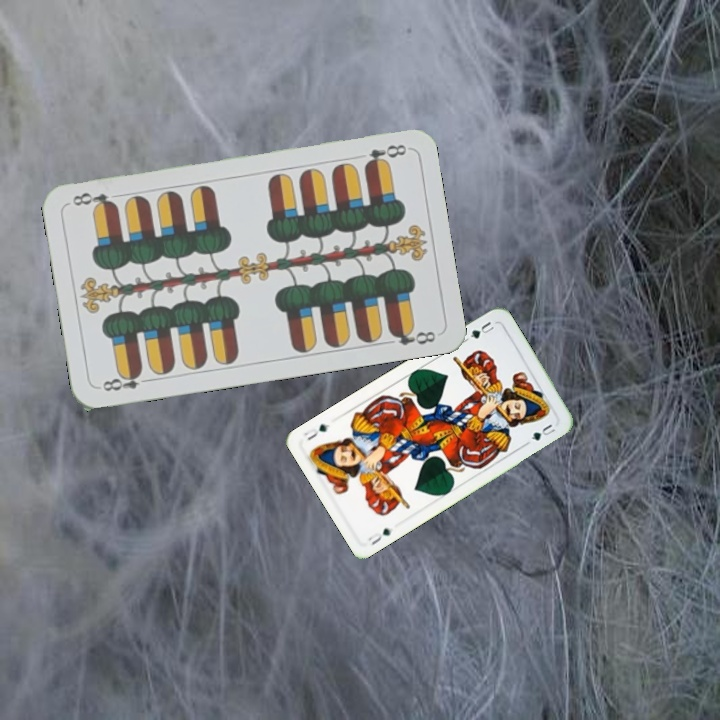E8: (98, 366, 154, 394), (360, 140, 409, 170)
GU: (466, 317, 497, 341), (364, 524, 394, 548)
